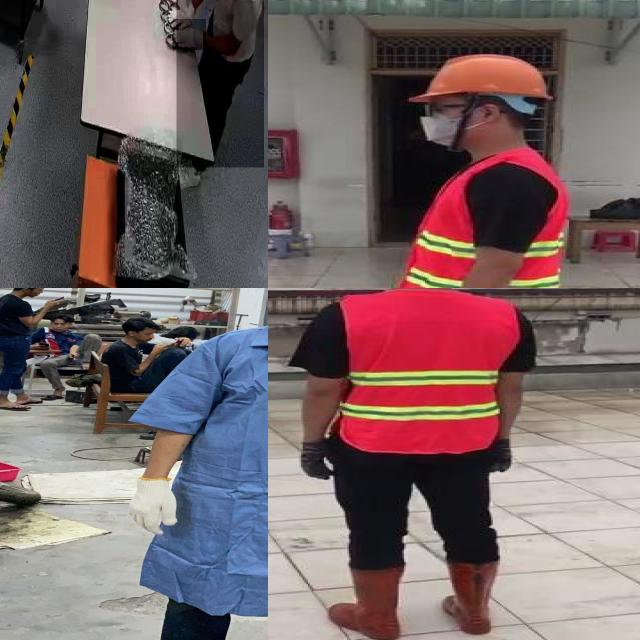boots: (331, 562, 407, 640), (439, 558, 503, 640)
face_mask: (412, 94, 486, 148)
face_nomask: (142, 329, 157, 342), (51, 321, 68, 331), (30, 288, 47, 298)
hand_glove: (119, 475, 184, 538), (290, 439, 336, 480), (481, 442, 522, 473), (164, 0, 199, 36), (172, 19, 206, 51)
hand_noglove: (151, 342, 172, 353), (43, 298, 65, 308), (31, 342, 51, 352), (174, 336, 192, 347), (65, 352, 82, 360)
head_helmet: (405, 52, 552, 100)
head_nohelmet: (124, 316, 158, 331), (51, 313, 74, 322)
person: (281, 288, 539, 640), (107, 288, 268, 640), (377, 50, 580, 288), (176, 0, 264, 168), (26, 313, 106, 399), (0, 288, 54, 414), (104, 317, 190, 393)
vest: (334, 291, 518, 453), (400, 158, 562, 288)
